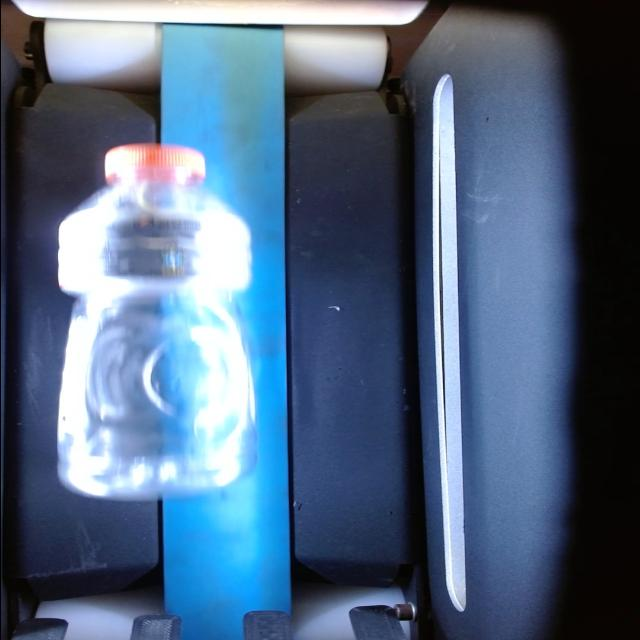bottom: (61, 443, 267, 504)
cap: (104, 140, 211, 191)
